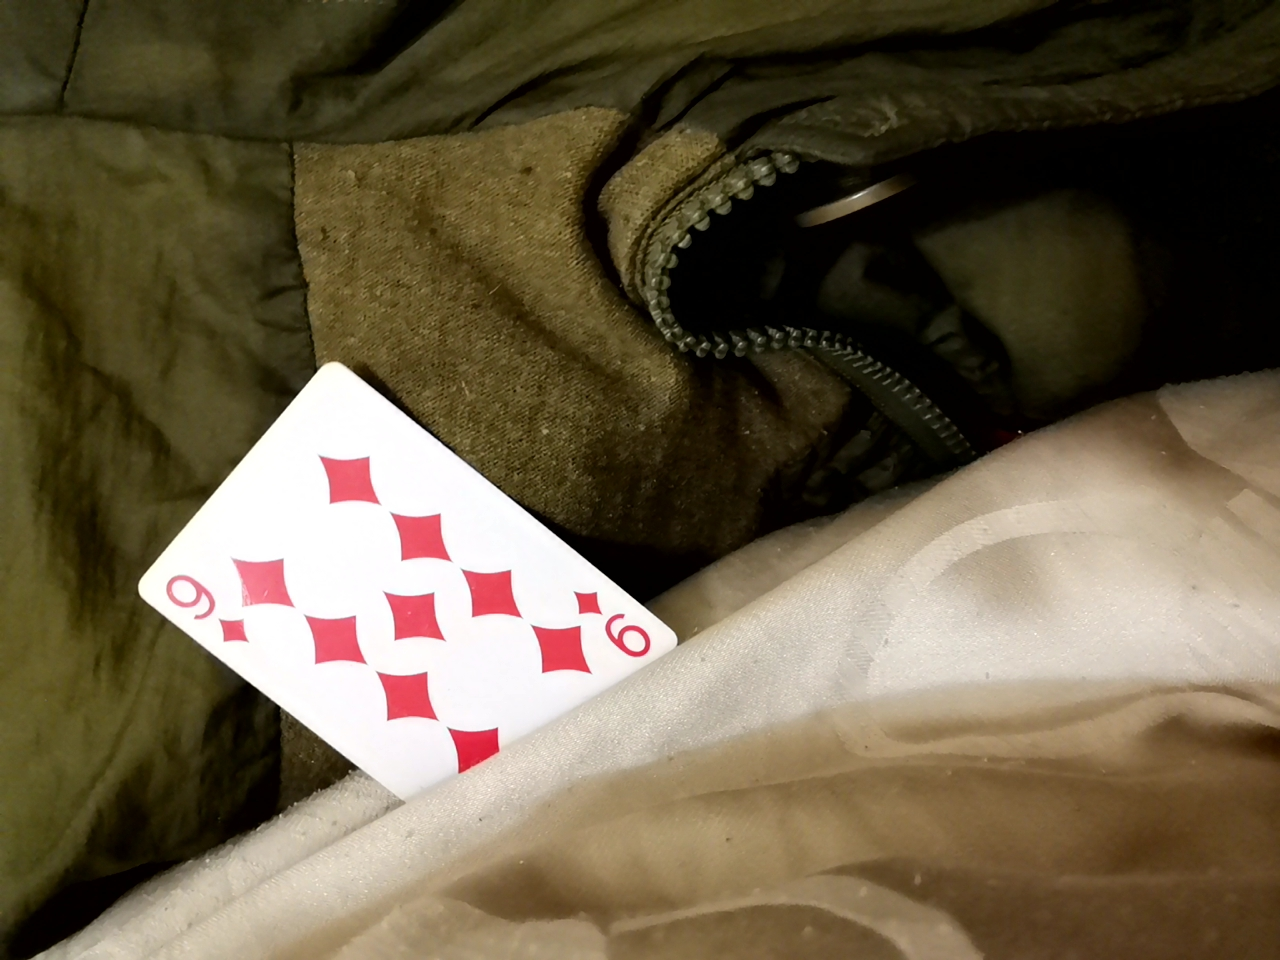fk 9: (104, 295, 665, 774)
